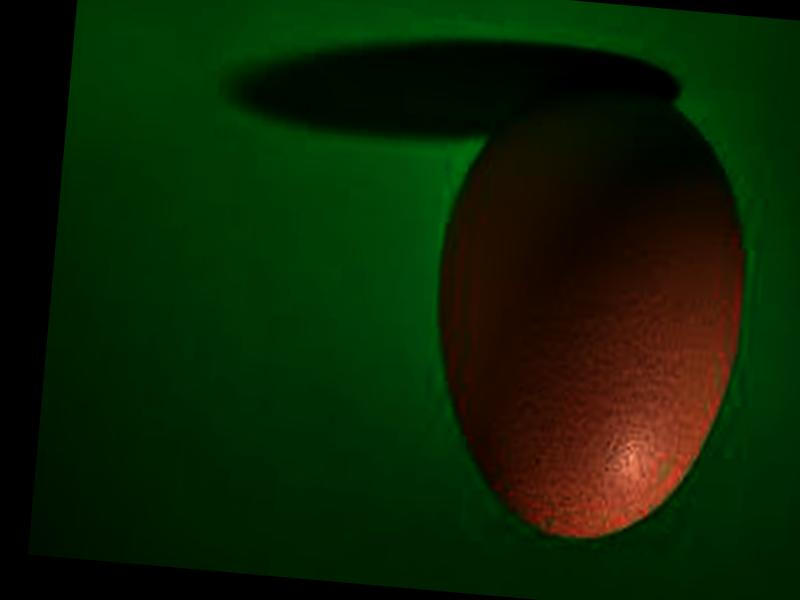Eggs: (418, 68, 763, 549)
